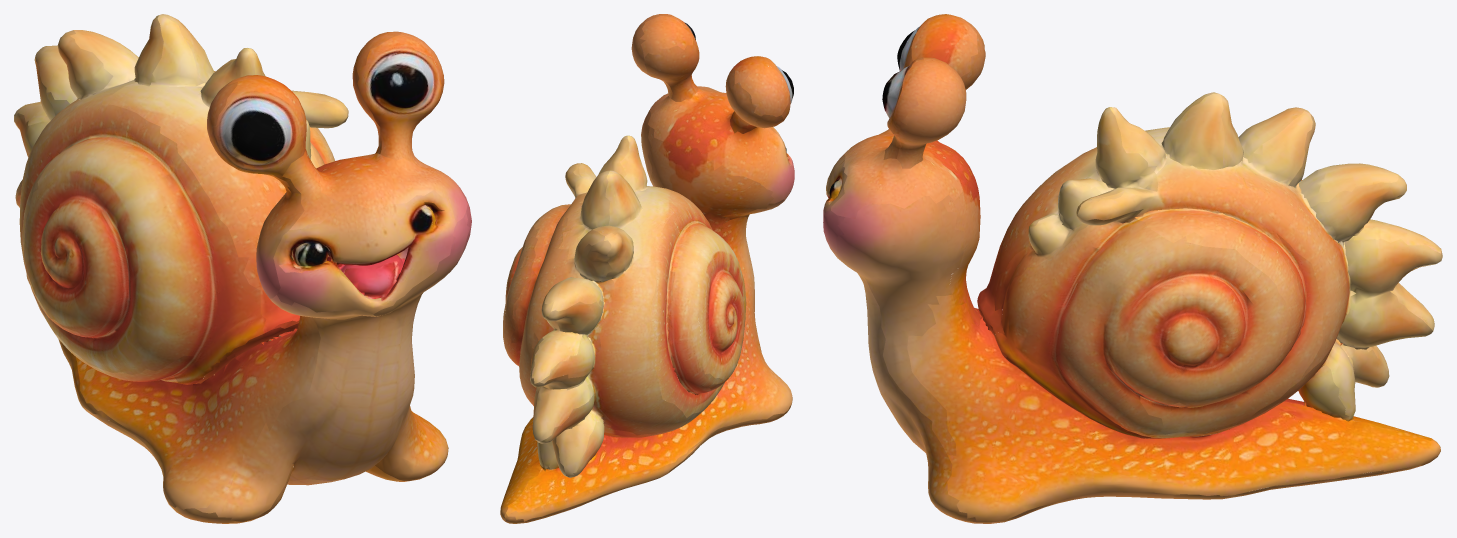
File: sunsnail.glb
3 views of the same model, side by side, from view 1: azimuth 30°, elevation 25°; view 2: azimuth 150°, elevation 25°; view 3: azimuth 270°, elevation 25° (orthographic). The views are drawn at different scales.
Parts seen in each view (by area): view 1: textured_mesh.obj; view 2: textured_mesh.obj; view 3: textured_mesh.obj.
Boxes of the visible parts, <box> form: textured_mesh.obj: <box>14,14,471,523</box>; textured_mesh.obj: <box>500,14,794,523</box>; textured_mesh.obj: <box>823,14,1442,523</box>.
Size of the model in its own units: 0.6633 by 1 by 1.29.
Materials: 1 (1 with a texture image).
